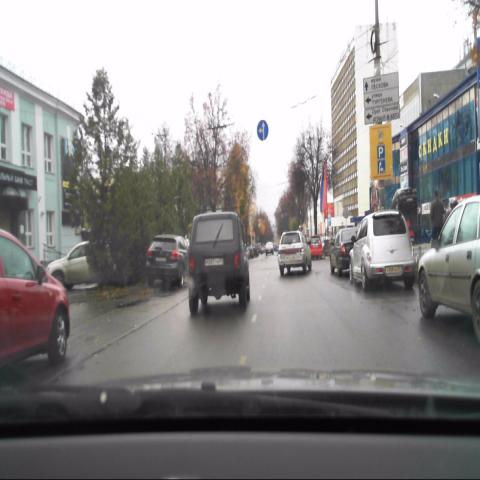4_1_5: (256, 121, 269, 141)
